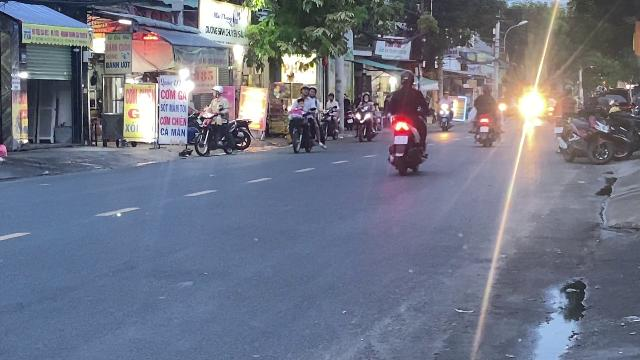helmet: (398, 70, 414, 86)
licenseplate: (394, 136, 408, 144)
motorcyclist: (385, 70, 429, 175)
